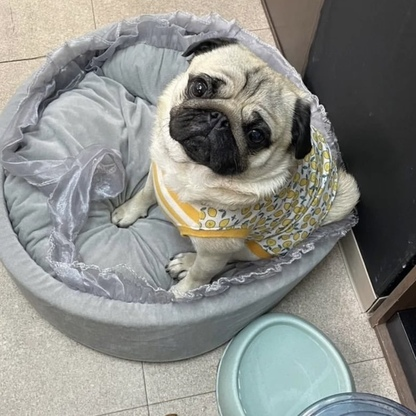Pug: (98, 28, 368, 302)
